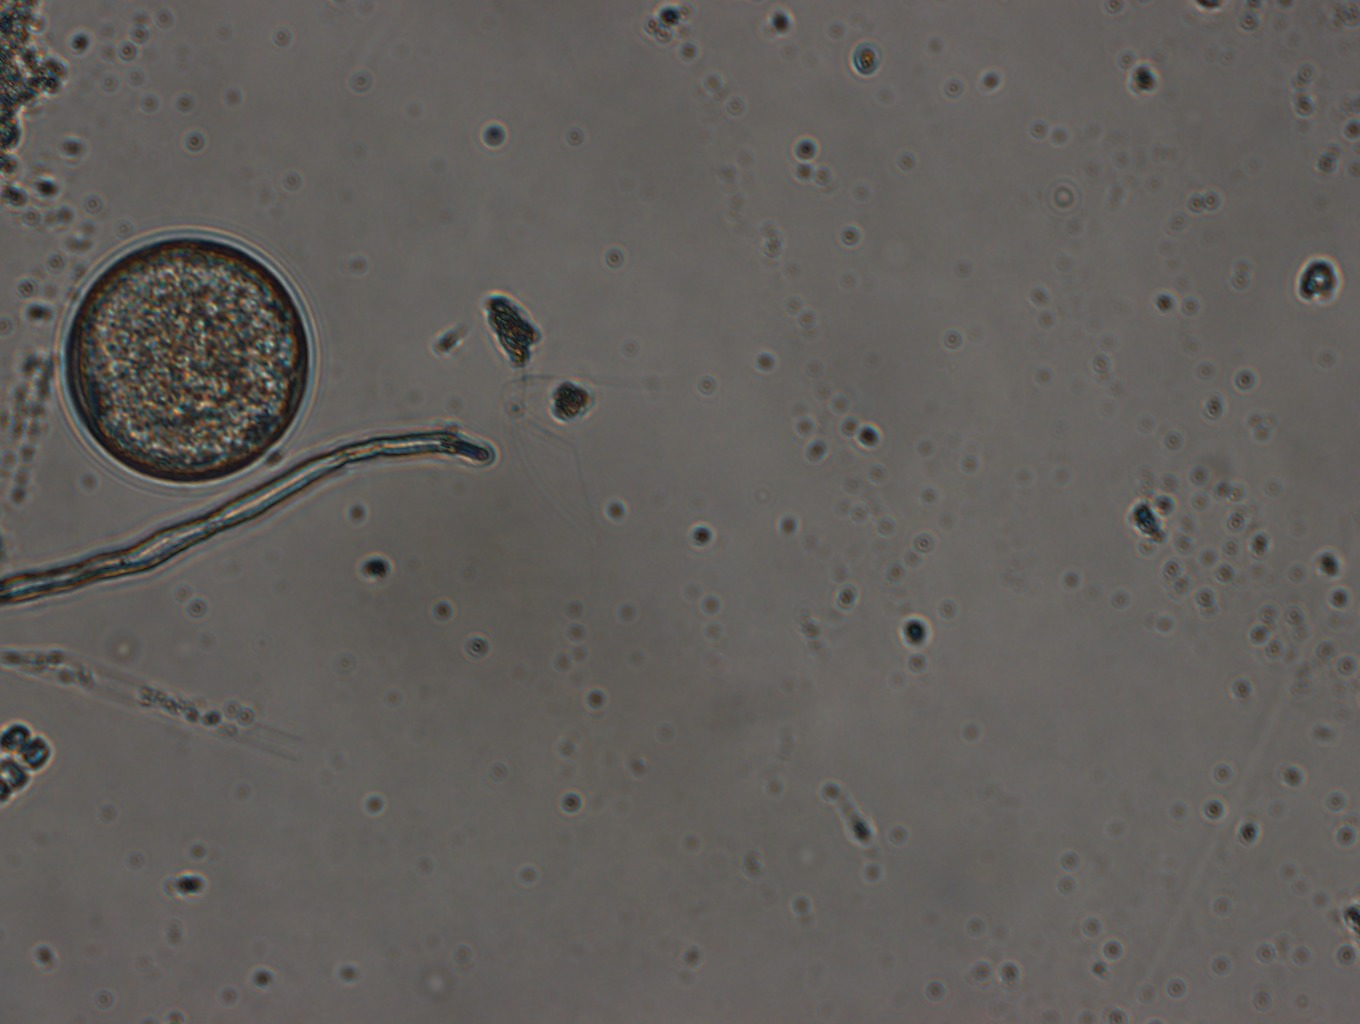coscinodiscus: (58, 222, 315, 490)
